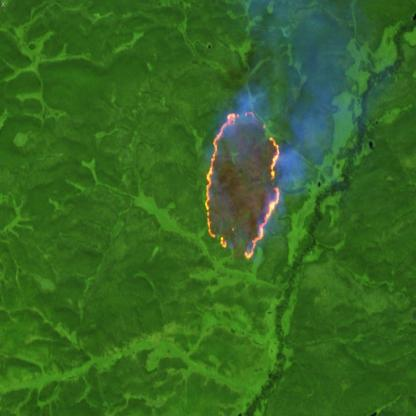fire: (202, 105, 283, 264)
